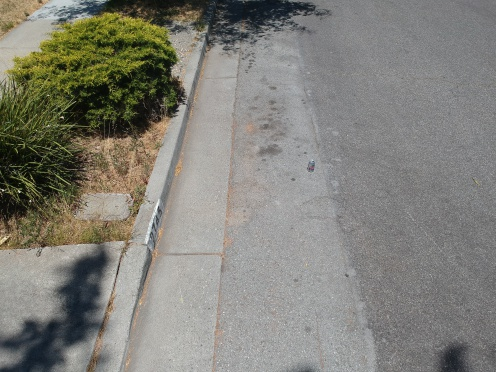can: (305, 155, 320, 178)
